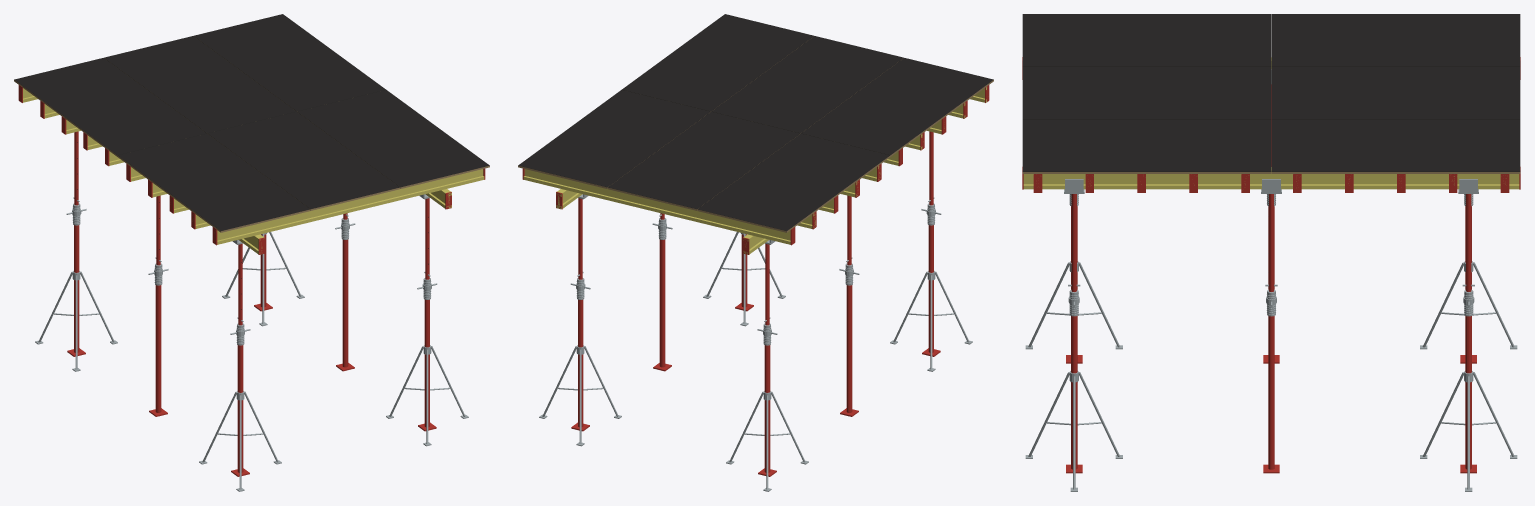
The model's file is Prosota_Slab_Formwork_Full.glb.
3 renders of one model, left to right at view 1: azimuth 30°, elevation 25°; view 2: azimuth 150°, elevation 25°; view 3: azimuth 270°, elevation 25°, orthographic. The views are drawn at different scales.
Parts seen in each view (by area): view 1: Deck panel 2-2 | Phenolic plywood face, Deck panel 1-2 | Phenolic plywood face, Deck panel 2-1 | Phenolic plywood face, Deck panel 3-1 | Phenolic plywood face, Deck panel 3-2 | Phenolic plywood face, Deck panel 1-1 | Phenolic plywood face, Secondary joist 00 | Yellow timber H20 beams, Prop -1.25 0 | Painted red props, Prop -1.25 -1.9 | Painted red props, Prop 1.25 -1.9 | Painted red props, Prop -1.25 1.9 | Painted red props, Prop 1.25 0 | Painted red props (+4 smaller); view 2: Deck panel 2-1 | Phenolic plywood face, Deck panel 1-1 | Phenolic plywood face, Deck panel 2-2 | Phenolic plywood face, Deck panel 3-1 | Phenolic plywood face, Deck panel 3-2 | Phenolic plywood face, Deck panel 1-2 | Phenolic plywood face, Secondary joist 09 | Yellow timber H20 beams, Prop -1.25 0 | Painted red props, Prop -1.25 1.9 | Painted red props, Prop 1.25 1.9 | Painted red props, Prop -1.25 -1.9 | Painted red props, Prop 1.25 0 | Painted red props (+4 smaller); view 3: Deck panel 2-1 | Phenolic plywood face, Deck panel 2-2 | Phenolic plywood face, Deck panel 1-1 | Phenolic plywood face, Deck panel 1-2 | Phenolic plywood face, Deck panel 3-1 | Phenolic plywood face, Deck panel 3-2 | Phenolic plywood face, Primary bearer 1.25 | Yellow timber H20 beams, Prop 1.25 0 | Painted red props, Prop 1.25 -1.9 | Painted red props, Prop 1.25 1.9 | Painted red props, Tripod 1.25 -1.9 | Galvanised steel, Tripod 1.25 1.9 | Galvanised steel (+5 smaller).
Part boxes in pixels (x1,y1,x2,y2): Deck panel 2-2 | Phenolic plywood face: (104,36,296,133); Deck panel 1-2 | Phenolic plywood face: (14,58,206,155); Deck panel 2-1 | Phenolic plywood face: (207,111,399,208); Deck panel 3-1 | Phenolic plywood face: (297,90,489,187); Deck panel 3-2 | Phenolic plywood face: (194,14,385,111); Deck panel 1-1 | Phenolic plywood face: (118,133,309,230); Secondary joist 00 | Yellow timber H20 beams: (216,169,484,244); Prop -1.25 0 | Painted red props: (149,195,167,416); Prop -1.25 -1.9 | Painted red props: (231,244,249,476); Prop 1.25 -1.9 | Painted red props: (418,198,436,431); Prop -1.25 1.9 | Painted red props: (67,131,85,356); Prop 1.25 0 | Painted red props: (336,213,354,371); Deck panel 2-1 | Phenolic plywood face: (711,36,903,133); Deck panel 1-1 | Phenolic plywood face: (801,58,993,155); Deck panel 2-2 | Phenolic plywood face: (608,111,800,208); Deck panel 3-1 | Phenolic plywood face: (622,14,813,111); Deck panel 3-2 | Phenolic plywood face: (518,90,710,187); Deck panel 1-2 | Phenolic plywood face: (698,133,889,230); Secondary joist 09 | Yellow timber H20 beams: (523,169,790,244); Prop -1.25 0 | Painted red props: (840,195,858,416); Prop -1.25 1.9 | Painted red props: (758,244,776,476); Prop 1.25 1.9 | Painted red props: (571,198,589,431); Prop -1.25 -1.9 | Painted red props: (922,131,940,356); Prop 1.25 0 | Painted red props: (653,213,671,371); Deck panel 2-1 | Phenolic plywood face: (1022,66,1271,119); Deck panel 2-2 | Phenolic plywood face: (1271,66,1520,119); Deck panel 1-1 | Phenolic plywood face: (1022,14,1271,66); Deck panel 1-2 | Phenolic plywood face: (1271,14,1520,66); Deck panel 3-1 | Phenolic plywood face: (1022,119,1271,171); Deck panel 3-2 | Phenolic plywood face: (1271,119,1520,171); Primary bearer 1.25 | Yellow timber H20 beams: (1023,167,1519,189); Prop 1.25 0 | Painted red props: (1263,194,1279,473); Prop 1.25 -1.9 | Painted red props: (1066,194,1082,473); Prop 1.25 1.9 | Painted red props: (1460,194,1476,473); Tripod 1.25 -1.9 | Galvanised steel: (1025,371,1122,491); Tripod 1.25 1.9 | Galvanised steel: (1420,371,1517,491).
Bounding box in the file's own units: 3.6 × 3.42 × 4.8.
